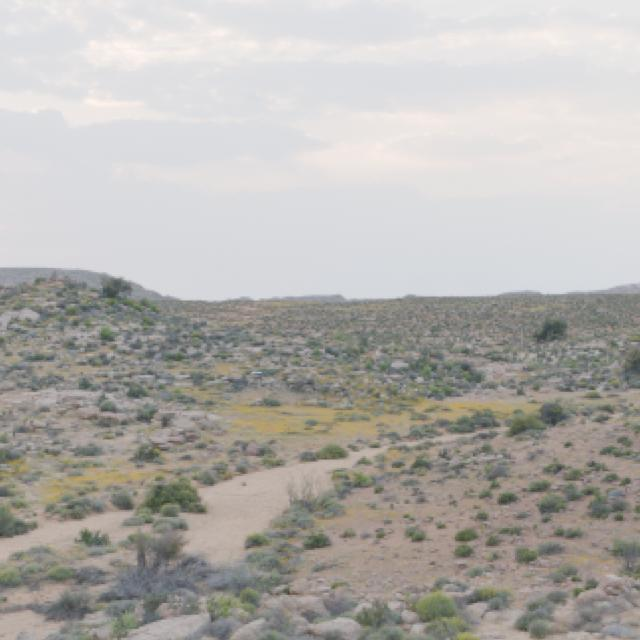Airaplan: (251, 372, 261, 374)
